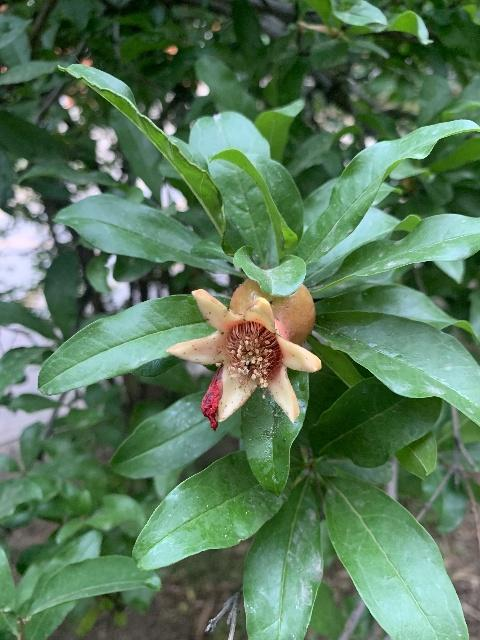early-fruit: (165, 277, 321, 429)
